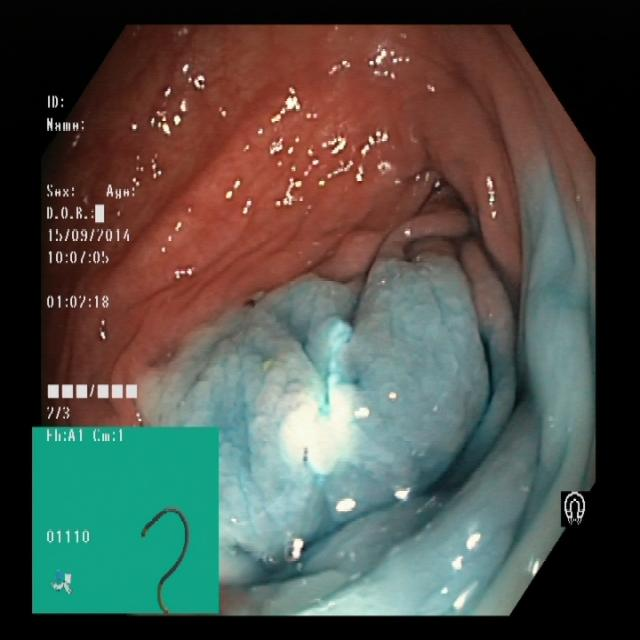dyed-lifted-polyps: (151, 255, 502, 589)
